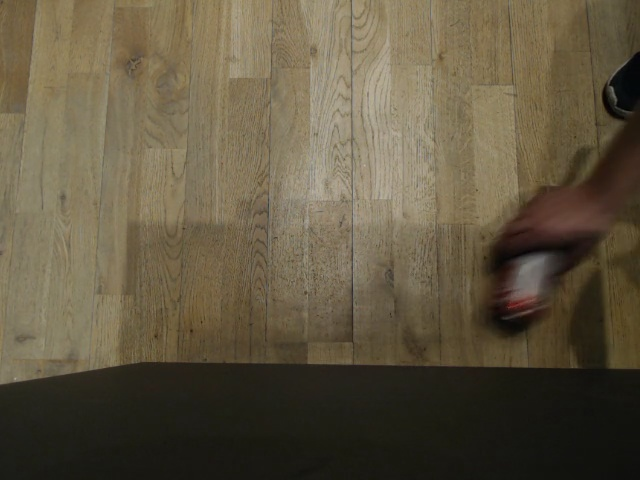cola: (485, 251, 566, 337)
